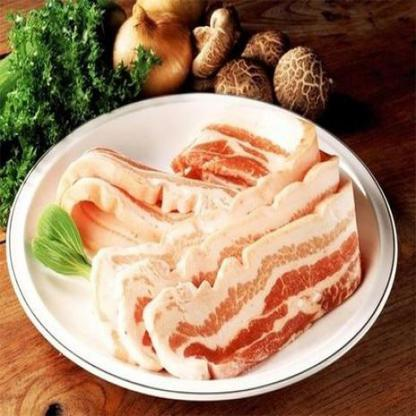pork: (71, 123, 365, 386)
